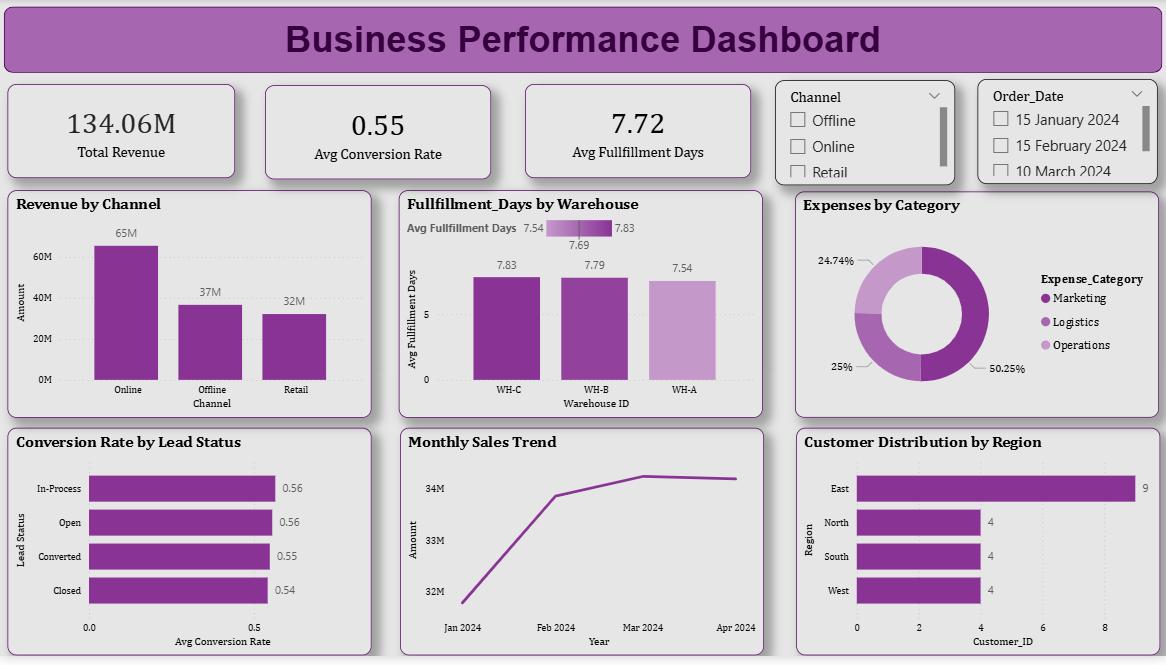

What the dashboard file says about the page in this screenshot:
{"tool":"powerbi","page":{"name":"Kulturehire_Task 9","canvas":[1280,720],"ordinal":0},"visuals":[{"type":"lineChart","title":"Monthly Sales Trend","fields":{"Y":["Sum(Sales.Amount)"],"Category":["Sales.Order_Date.Variation.Date Hierarchy.Year","Sales.Order_Date.Variation.Date Hierarchy.Month"]},"box":[439.1,470.2,399.3,249.7],"z":0},{"type":"clusteredBarChart","title":"Conversion Rate by Lead Status","fields":{"Category":["CRM.Lead_Status"],"Y":["Avg(CRM.Conversion_Rate)"]},"box":[8.2,470.7,399,249.7],"z":1000},{"type":"donutChart","title":"Expenses by Category","fields":{"Category":["Finance.Expense_Category"],"Y":["Sum(Finance.Amount)"]},"box":[871.4,211.3,399.3,248.4],"z":2000},{"type":"clusteredColumnChart","title":"Fullfillment_Days by Warehouse","fields":{"Y":["Avg(Operation.Fullfillment_Days)"],"Category":["Operation.Warehouse_ID"]},"box":[437.7,209.9,399.3,249.7],"z":3000},{"type":"shape","box":[4.1,8.2,1270.7,72.7],"z":4000},{"type":"clusteredBarChart","title":"Customer Distribution by Region","fields":{"Category":["Sales.Region"],"Y":["CountNonNull(Sales.Customer_ID)"]},"box":[872.7,470.2,399.3,249.7],"z":5000},{"type":"slicer","fields":{"Values":["Sales.Channel"]},"box":[849.4,89.2,197.6,115.3],"z":6000},{"type":"slicer","fields":{"Values":["Sales.Order_Date"]},"box":[1071.7,87.8,197.6,115.3],"z":7000},{"type":"columnChart","title":"Revenue by Channel","fields":{"Category":["Sales.Channel"],"Y":["Sum(Sales.Amount)"]},"box":[8.2,209.9,399.3,249.7],"z":8000},{"type":"card","fields":{"Values":["Sum(Sales.Amount)"]},"box":[8.2,93.3,249.7,102.9],"z":9000},{"type":"card","fields":{"Values":["Avg(CRM.Conversion_Rate)"]},"box":[290.9,94.7,248.4,102.9],"z":10000},{"type":"card","fields":{"Values":["Avg(Operation.Fullfillment_Days)"]},"box":[576.3,93.3,248.4,102.9],"z":11000}]}

Visuals, with their boxes in screenshot pixels (x1, y1, x2, y2), scaled from the page's 1280x720 canvas onto the 1166x665 screenshot:
"Monthly Sales Trend" lineChart: <box>400,434,764,664</box>
"Conversion Rate by Lead Status" clusteredBarChart: <box>7,435,371,664</box>
"Expenses by Category" donutChart: <box>794,195,1158,425</box>
"Fullfillment_Days by Warehouse" clusteredColumnChart: <box>399,194,762,424</box>
shape: <box>4,8,1161,75</box>
"Customer Distribution by Region" clusteredBarChart: <box>795,434,1159,664</box>
slicer - Sales.Channel: <box>774,82,954,189</box>
slicer - Sales.Order_Date: <box>976,81,1156,188</box>
"Revenue by Channel" columnChart: <box>7,194,371,424</box>
card - Sum(Sales.Amount): <box>7,86,235,181</box>
card - Avg(CRM.Conversion_Rate): <box>265,87,491,183</box>
card - Avg(Operation.Fullfillment_Days): <box>525,86,751,181</box>
